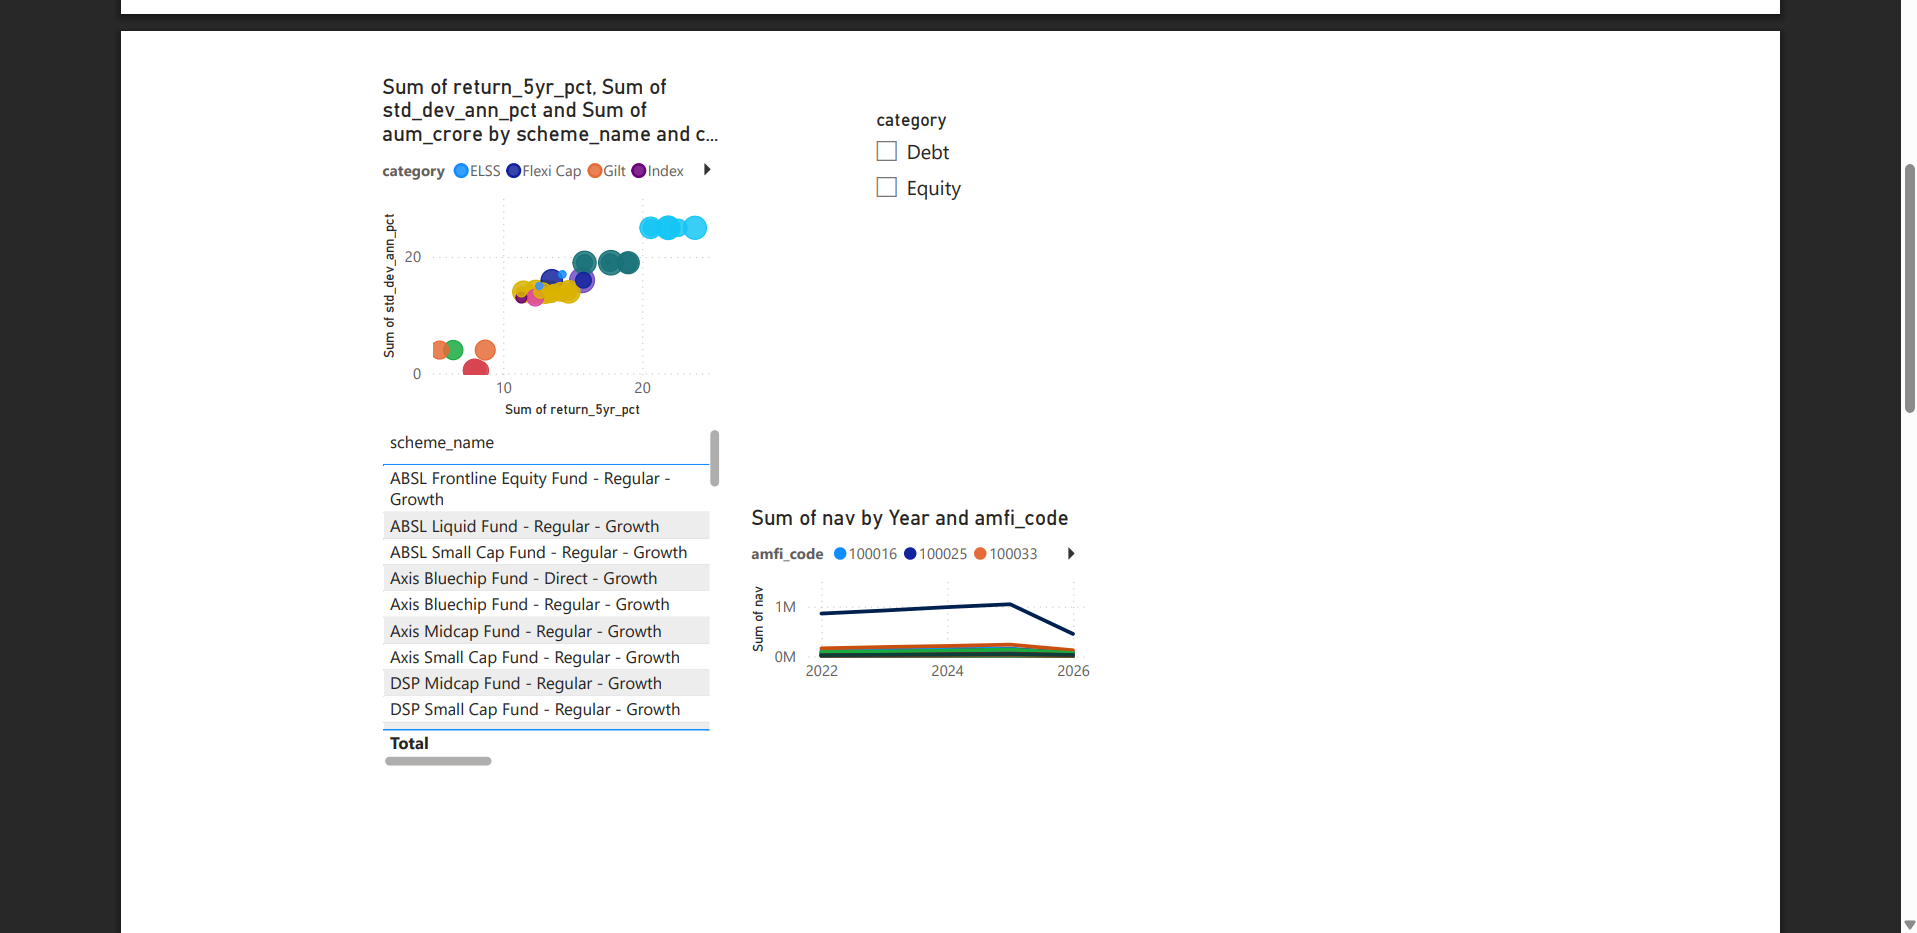

This screenshot's page, from the dashboard's own definition file:
{"tool":"powerbi","page":{"name":"FUND PERFORMANCE","canvas":[1280,720],"ordinal":1},"visuals":[{"type":"scatterChart","fields":{"X":["Sum(07_scheme_performance.return_5yr_pct)"],"Y":["Sum(07_scheme_performance.std_dev_ann_pct)"],"Size":["Sum(07_scheme_performance.aum_crore)"],"Category":["07_scheme_performance.scheme_name"],"Series":["07_scheme_performance.category"]},"box":[180.8,9.5,280,280],"z":0},{"type":"tableEx","fields":{"Values":["07_scheme_performance.scheme_name","Sum(07_scheme_performance.return_5yr_pct)","Sum(07_scheme_performance.sharpe_ratio)","Sum(07_scheme_performance.alpha)","Sum(07_scheme_performance.expense_ratio_pct)"]},"box":[180.8,289.5,280,280],"z":1000},{"type":"lineChart","fields":{"Category":["clean_nav_history.date.Variation.Date Hierarchy.Year","clean_nav_history.date.Variation.Date Hierarchy.Quarter","clean_nav_history.date.Variation.Date Hierarchy.Month","clean_nav_history.date.Variation.Date Hierarchy.Day"],"Y":["Sum(clean_nav_history.nav)"],"Series":["clean_nav_history.amfi_code"]},"box":[475.7,354.7,280,150.9],"z":2000},{"type":"slicer","fields":{"Values":["01_fund_master.category"]},"box":[568.1,34,280,280],"z":3000}]}

Visuals, with their boxes on the page's 1280x720 design canvas (x1, y1, x2, y2). These are canvas units, not pixel positions in the 1917x933 screenshot, which may show the page scaled, cropped or inside an application window:
scatterChart - Sum(07_scheme_performance.return_5yr_pct) x Sum(07_scheme_performance.std_dev_ann_pct): l=181, t=10, r=461, b=290
tableEx - 07_scheme_performance.scheme_name x Sum(07_scheme_performance.return_5yr_pct): l=181, t=290, r=461, b=570
lineChart - clean_nav_history.date.Variation.Date Hierarchy.Year x clean_nav_history.date.Variation.Date Hierarchy.Quarter: l=476, t=355, r=756, b=506
slicer - 01_fund_master.category: l=568, t=34, r=848, b=314
